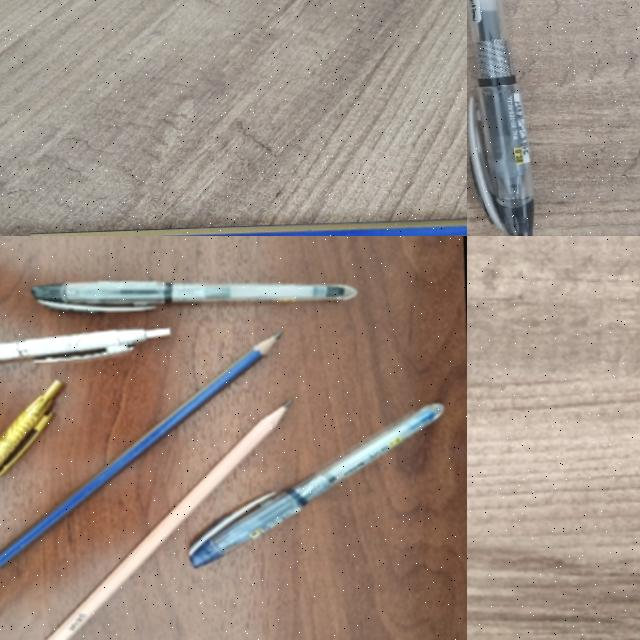pen: (189, 404, 444, 564), (467, 0, 533, 235), (34, 270, 354, 315)
pencil: (0, 333, 279, 564), (45, 403, 286, 640), (30, 219, 466, 235)
signature pen: (0, 327, 167, 372), (0, 380, 63, 474)
